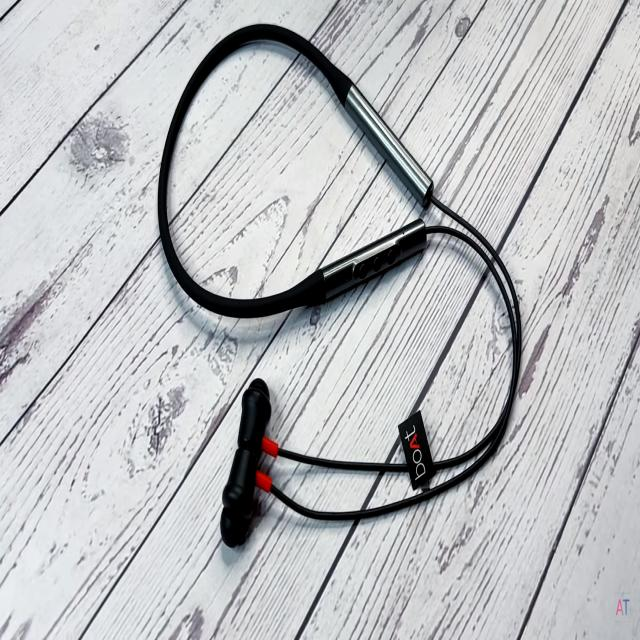Neckband: (158, 21, 522, 550)
